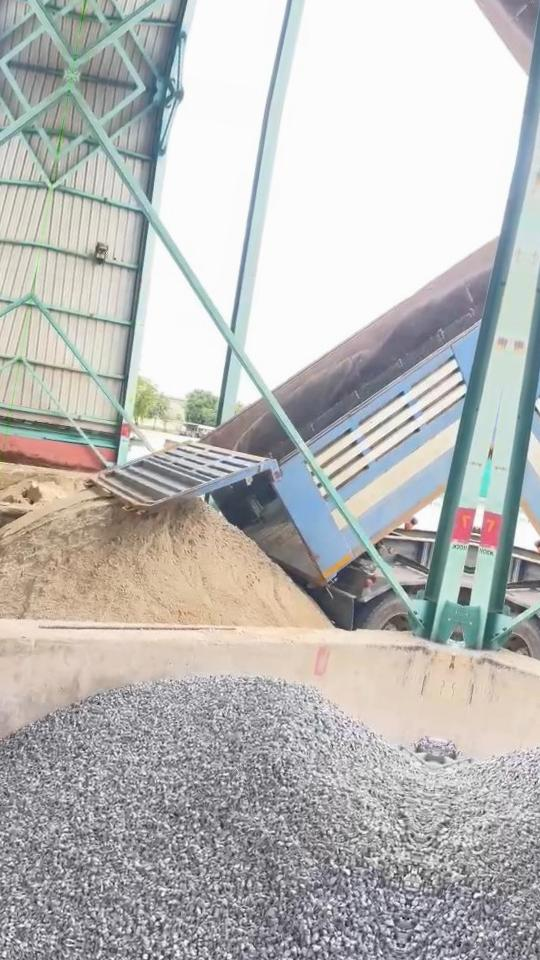gravel: (0, 678, 433, 960), (416, 736, 439, 762)
sand: (0, 491, 328, 628), (0, 480, 71, 506)
